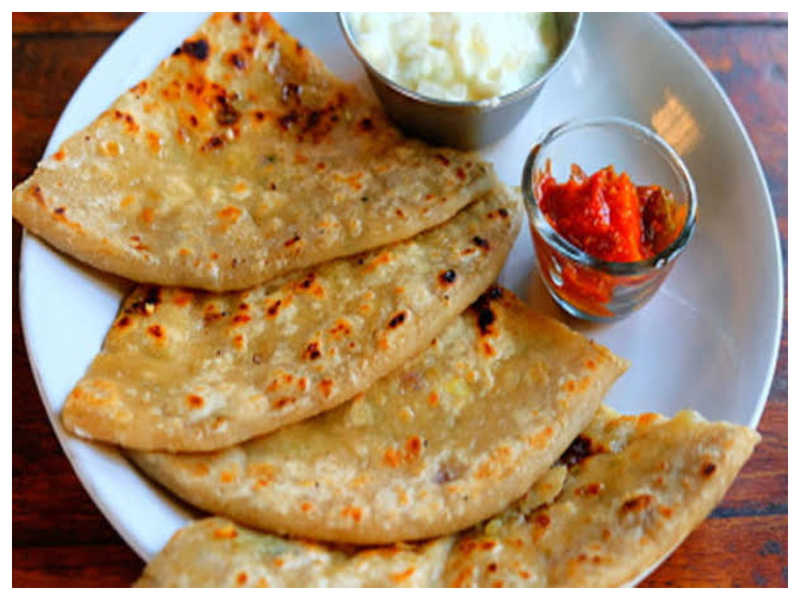aloo_paratha: (65, 290, 770, 600), (4, 12, 497, 287)
